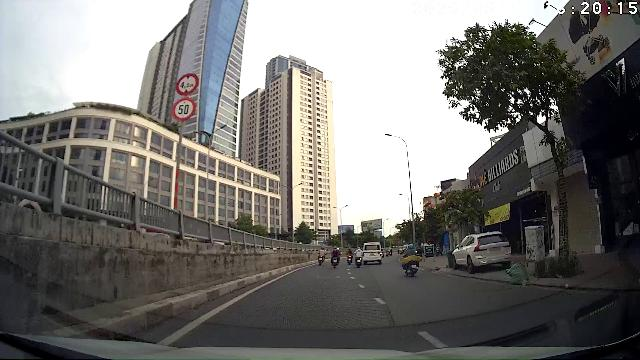127-toc-do-toi-da-50: (171, 97, 196, 122)
